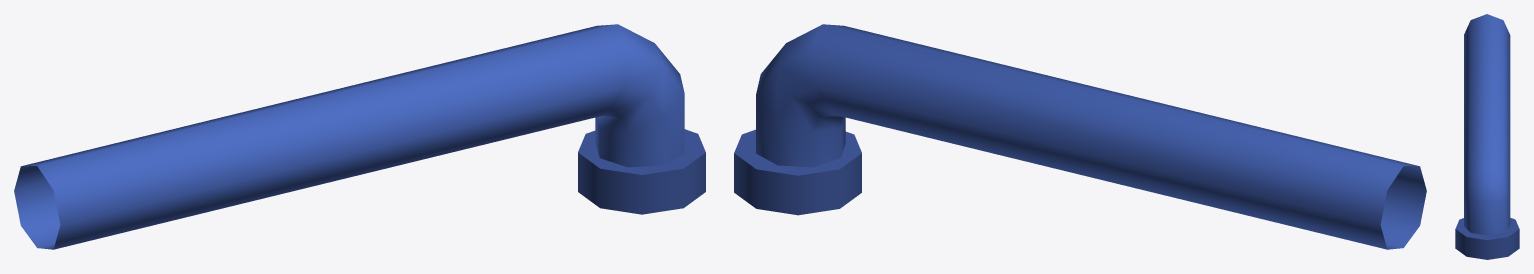
The model's file is Pipe_1_D_2_2.glb.
3 views of the same model, side by side, from view 1: azimuth 30°, elevation 25°; view 2: azimuth 150°, elevation 25°; view 3: azimuth 270°, elevation 25° (orthographic). The views are drawn at different scales.
Visible parts, largest first — view 1: Pipe_1_D_2_2; view 2: Pipe_1_D_2_2; view 3: Pipe_1_D_2_2.
Boxes of the visible parts, <box> form: Pipe_1_D_2_2: <box>14,24,705,249</box>; Pipe_1_D_2_2: <box>734,24,1426,249</box>; Pipe_1_D_2_2: <box>1455,14,1519,259</box>.
Size of the model in its own units: 1.8 by 0.4392 by 0.3012.
Materials: 1 (1 with a texture image).
